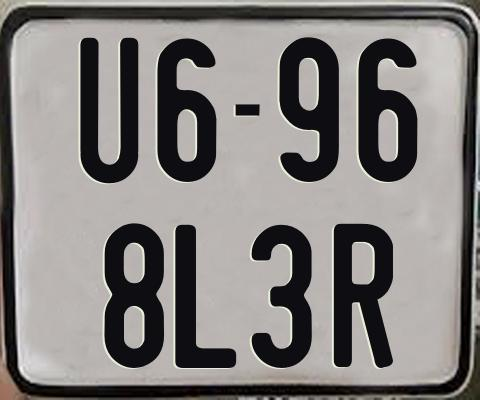3: (249, 225, 313, 374)
6: (155, 36, 219, 185), (355, 36, 416, 183)
8: (104, 222, 165, 371)
9: (277, 37, 337, 185)
L: (173, 224, 239, 371)
R: (332, 221, 397, 369)
U: (79, 35, 141, 183)
